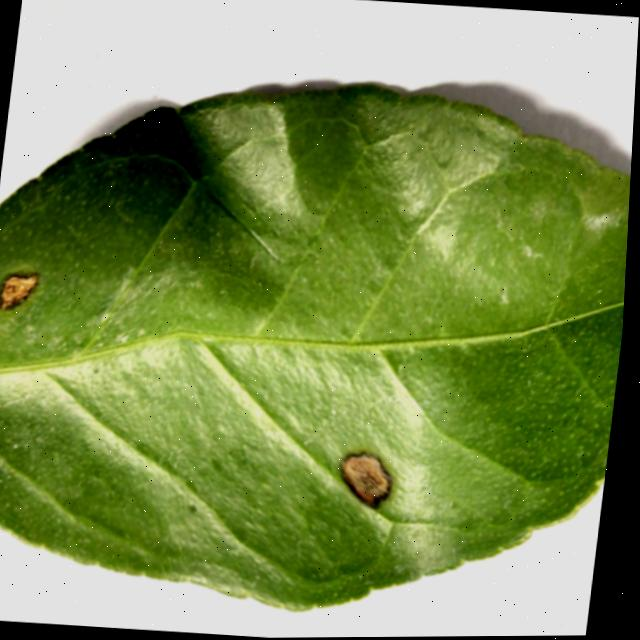antracnose: (0, 86, 631, 609), (341, 453, 390, 507), (0, 274, 37, 309)
